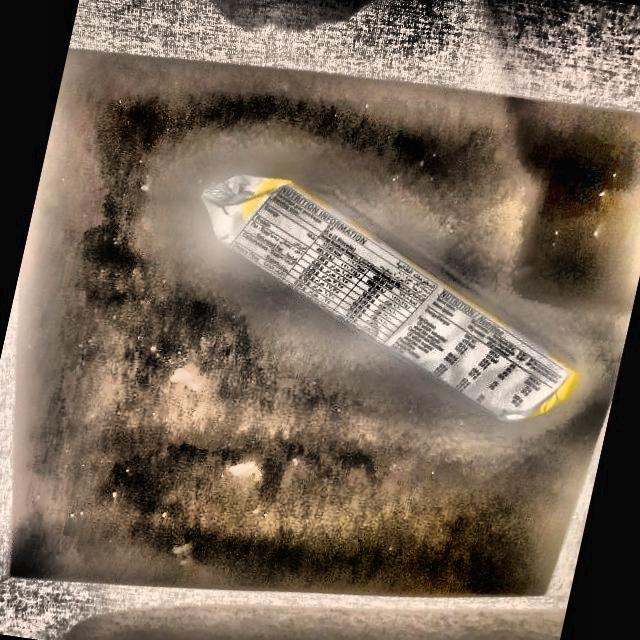lemon puff: (188, 159, 574, 435)
